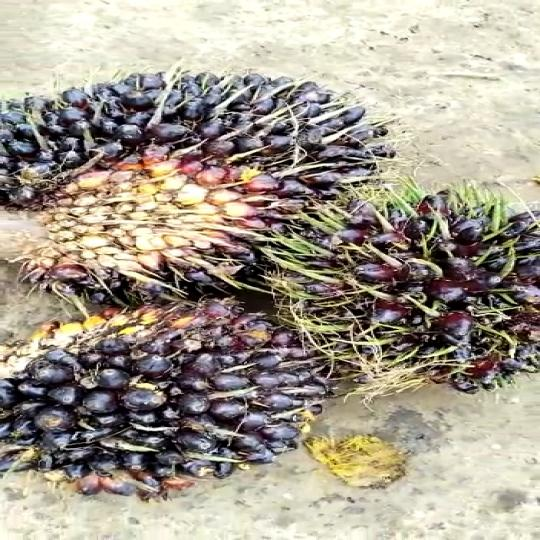mentah: (0, 63, 408, 307), (0, 294, 368, 514), (223, 187, 540, 390)
